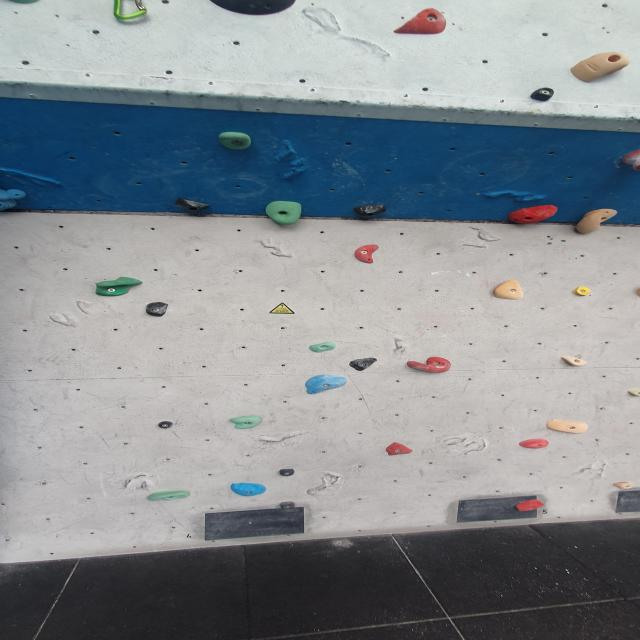Crimp: (391, 7, 451, 37), (304, 375, 350, 395), (405, 356, 455, 374), (543, 418, 590, 436), (229, 482, 270, 498), (383, 443, 416, 458), (514, 498, 546, 513), (142, 302, 174, 317), (516, 439, 552, 452), (556, 354, 590, 366), (350, 356, 380, 369), (570, 285, 594, 297), (612, 481, 637, 492), (625, 387, 640, 398)
Jug: (574, 208, 620, 236), (93, 277, 146, 300), (508, 204, 561, 226), (264, 200, 304, 227), (217, 131, 254, 153), (490, 279, 527, 300), (145, 489, 193, 502), (352, 244, 382, 264), (227, 415, 262, 431), (306, 341, 336, 356)
Pinch: (568, 52, 634, 84), (349, 204, 390, 216), (178, 198, 211, 212), (531, 87, 556, 101), (278, 500, 300, 511), (155, 420, 175, 430), (279, 469, 297, 477)
